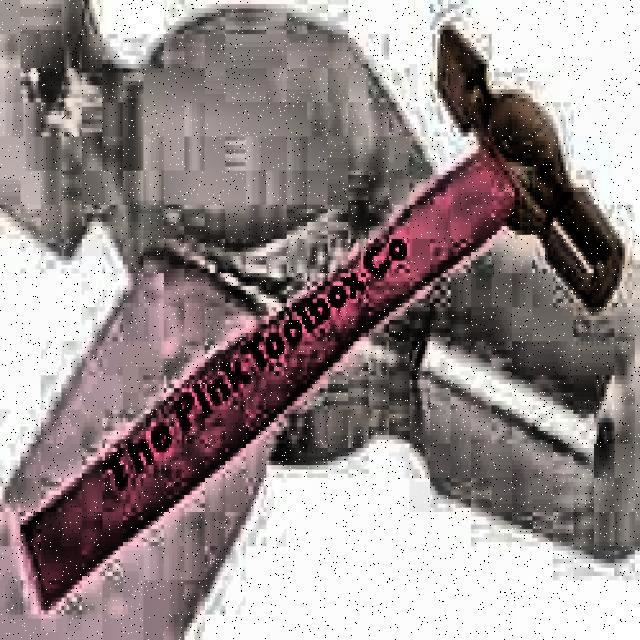hammer: (21, 24, 627, 604)
